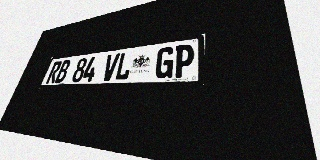4: (81, 56, 100, 82)
8: (71, 57, 89, 82)
B: (54, 60, 72, 83)
G: (154, 46, 175, 79)
L: (114, 51, 134, 80)
P: (173, 43, 195, 78)
R: (46, 61, 63, 83)
V: (101, 53, 120, 81)
